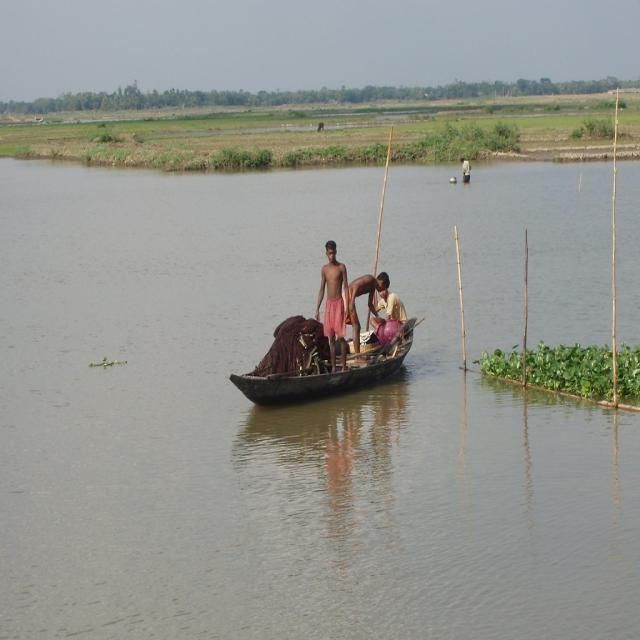Hyacinth: (458, 326, 640, 414), (82, 353, 136, 375)
boat: (220, 312, 426, 409)
